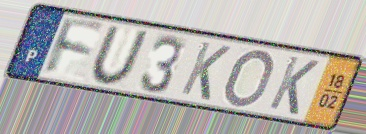3: (140, 32, 184, 96)
F: (42, 14, 108, 78)
K: (265, 53, 322, 118), (177, 39, 234, 103)
O: (221, 47, 277, 109)
U: (89, 24, 152, 88)
